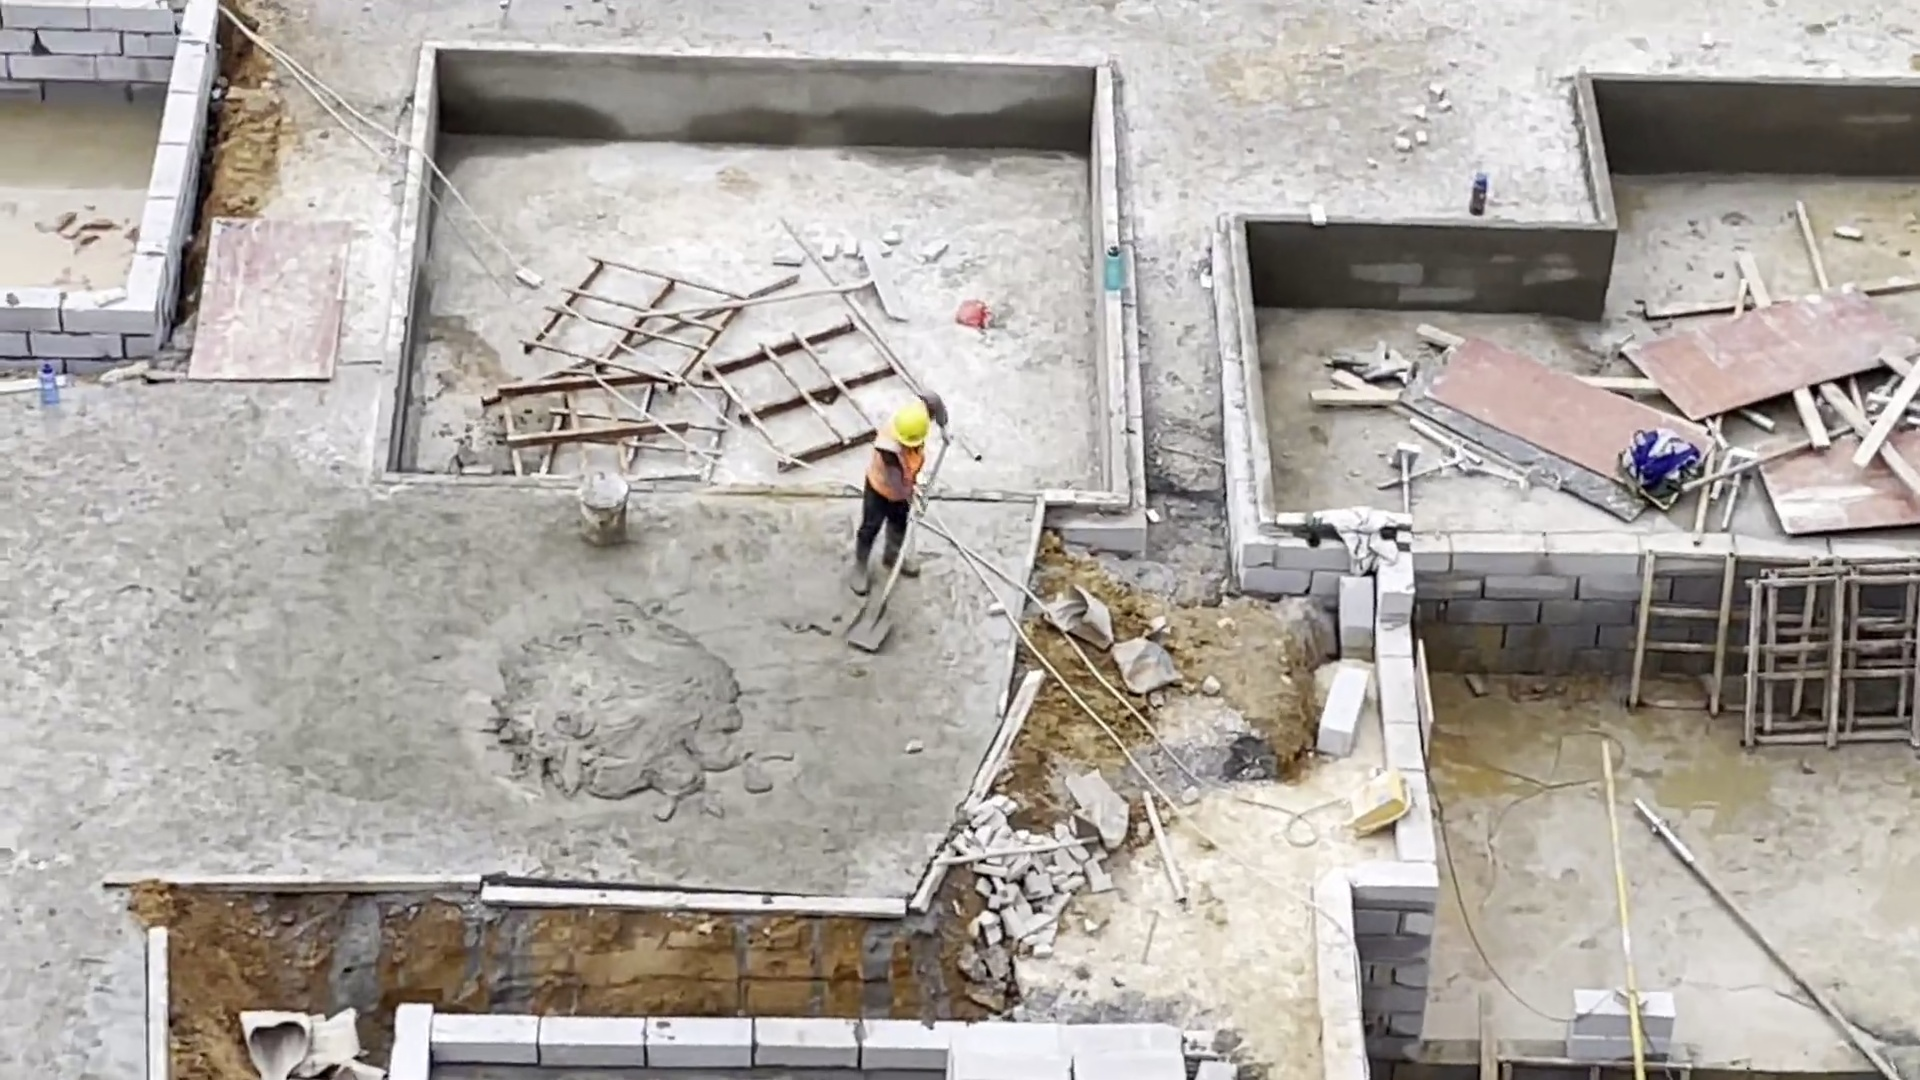helmet: (893, 399, 931, 449)
person: (844, 392, 935, 594)
vest: (867, 426, 924, 503)
